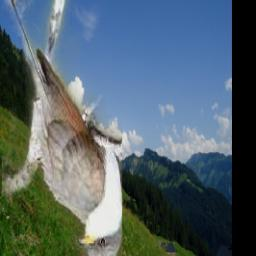Cuckoo: (3, 0, 123, 256)
